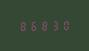eight: (18, 20, 27, 31), (38, 20, 47, 30)
six: (28, 20, 37, 31)
three: (48, 19, 57, 30)
zero: (58, 19, 67, 30)
